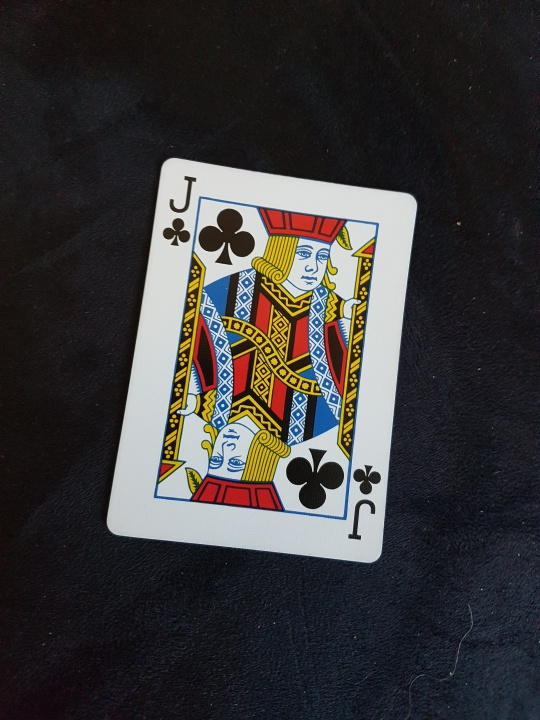jack: (102, 150, 429, 580)
